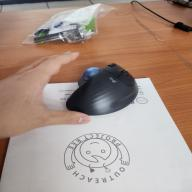mouse: (65, 62, 139, 116)
